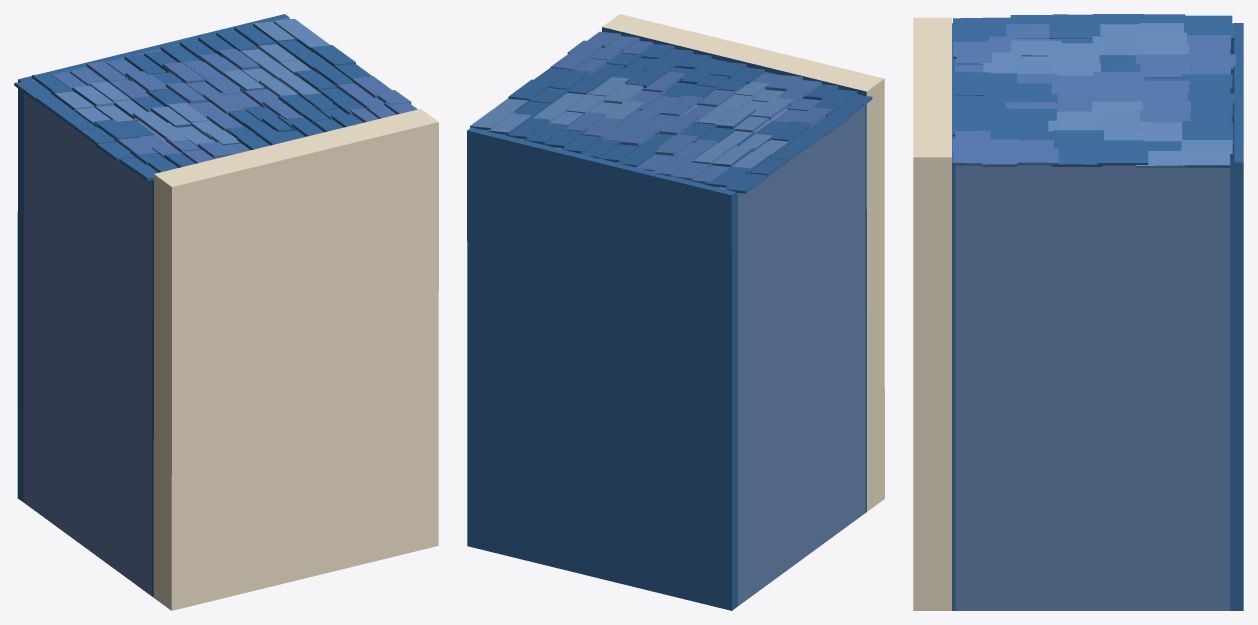
File: Roof_Top_Edge.fbx
3 renders of one model, left to right at view 1: azimuth 30°, elevation 25°; view 2: azimuth 150°, elevation 25°; view 3: azimuth 270°, elevation 25°, orthographic. The views are drawn at different scales.
Visible parts, largest first — view 1: Roof_Top_Edge; view 2: Roof_Top_Edge; view 3: Roof_Top_Edge.
Part boxes in pixels (box(x1,y1,x2,y2)): Roof_Top_Edge: box(14, 14, 438, 610); Roof_Top_Edge: box(467, 14, 884, 610); Roof_Top_Edge: box(913, 14, 1243, 610).
Size of the model in its own units: 211 by 200 by 305.
